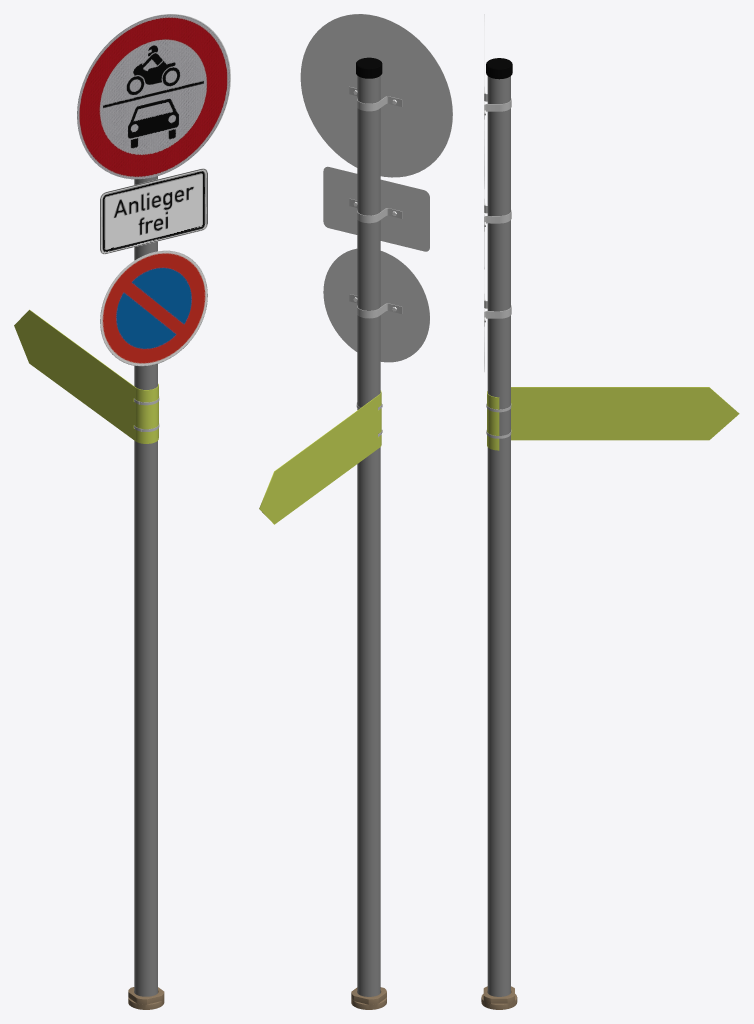
The picture shows the model from 3 angles, left to right: view 1: azimuth 30°, elevation 25°; view 2: azimuth 150°, elevation 25°; view 3: azimuth 270°, elevation 25°; orthographic projection.
Parts seen in each view (by area): view 1: VS260, Pfosten, VZ286, THH_Wegweiser_Gerade, NR102, Überwurf; view 2: Pfosten, VS260, VZ286, THH_Wegweiser_Gerade, NR102, Schelle, Überwurf; view 3: Pfosten, THH_Wegweiser_Gerade, Schelle.
Boxes of the visible parts, x1,y1,x2,y2 form: VS260: (77,14,230,179); Pfosten: (134,176,157,996); VZ286: (100,250,207,366); THH_Wegweiser_Gerade: (14,309,159,443); NR102: (100,168,207,254); Überwurf: (128,987,164,1009); Pfosten: (356,57,382,996); VS260: (300,14,452,177); VZ286: (323,248,429,362); THH_Wegweiser_Gerade: (259,390,381,524); NR102: (323,166,429,251); Schelle: (349,86,402,318); Überwurf: (351,987,386,1009); Pfosten: (486,58,512,996); THH_Wegweiser_Gerade: (486,387,739,450); Schelle: (484,87,511,326).
Size of the model in its own units: 0.6 by 3.7 by 0.8814.
10 materials, 3 textured.
